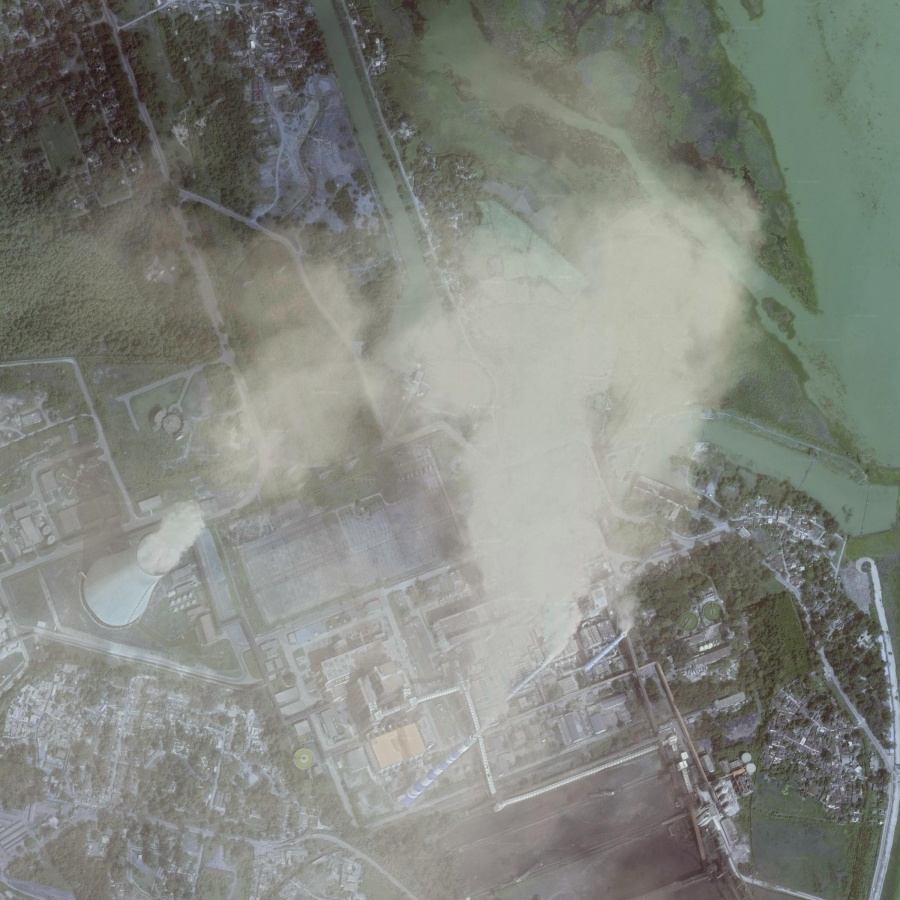PowerPlant: (364, 554, 654, 835), (73, 461, 228, 672)
